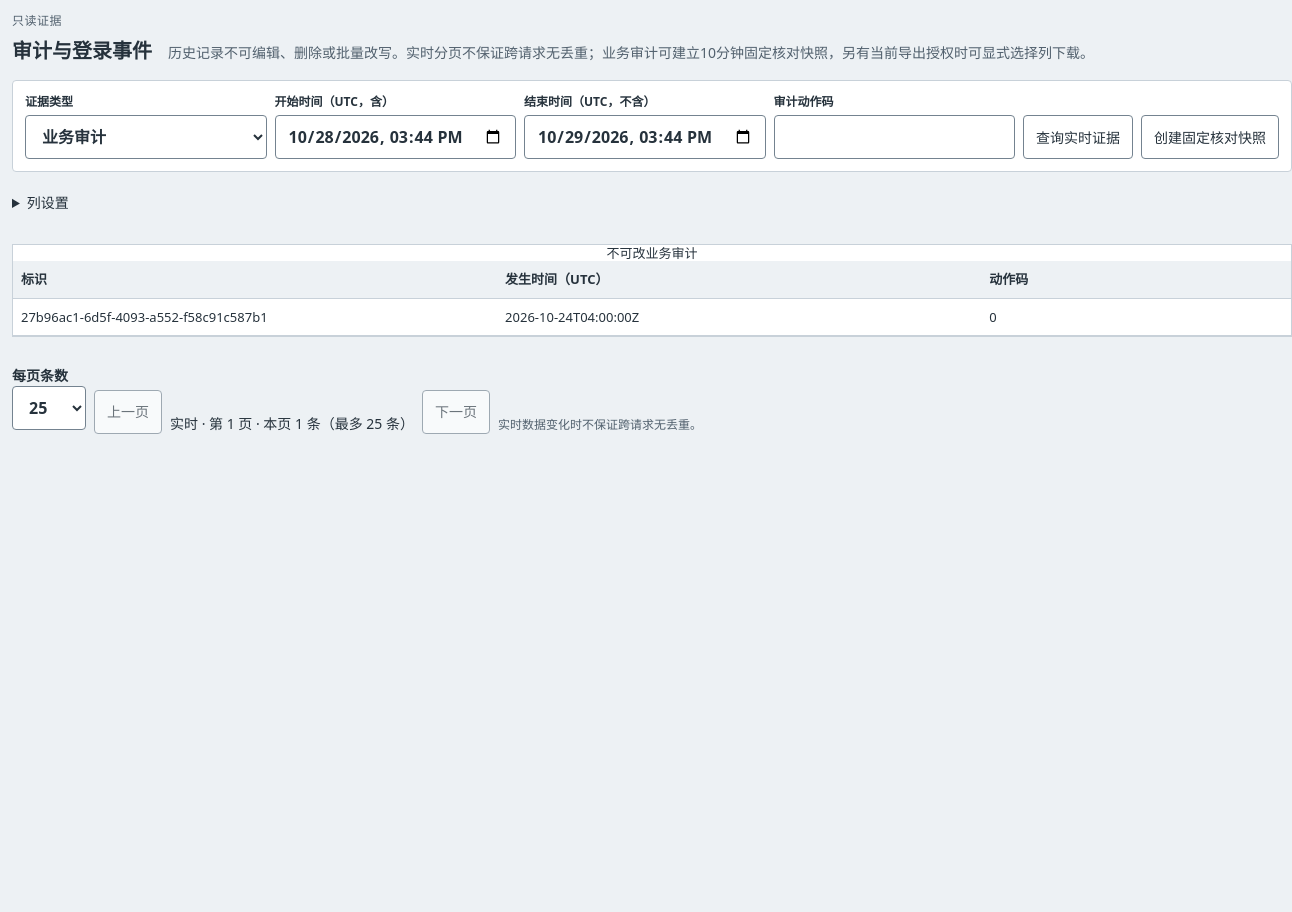
Scenario: offline export is rejected visibly without queuing a download on reconnect
The image size is (1292, 912).
Step 1. Click the button with test id "create-audit-snapshot" → x=1210, y=137, box [1141,115,1279,159]
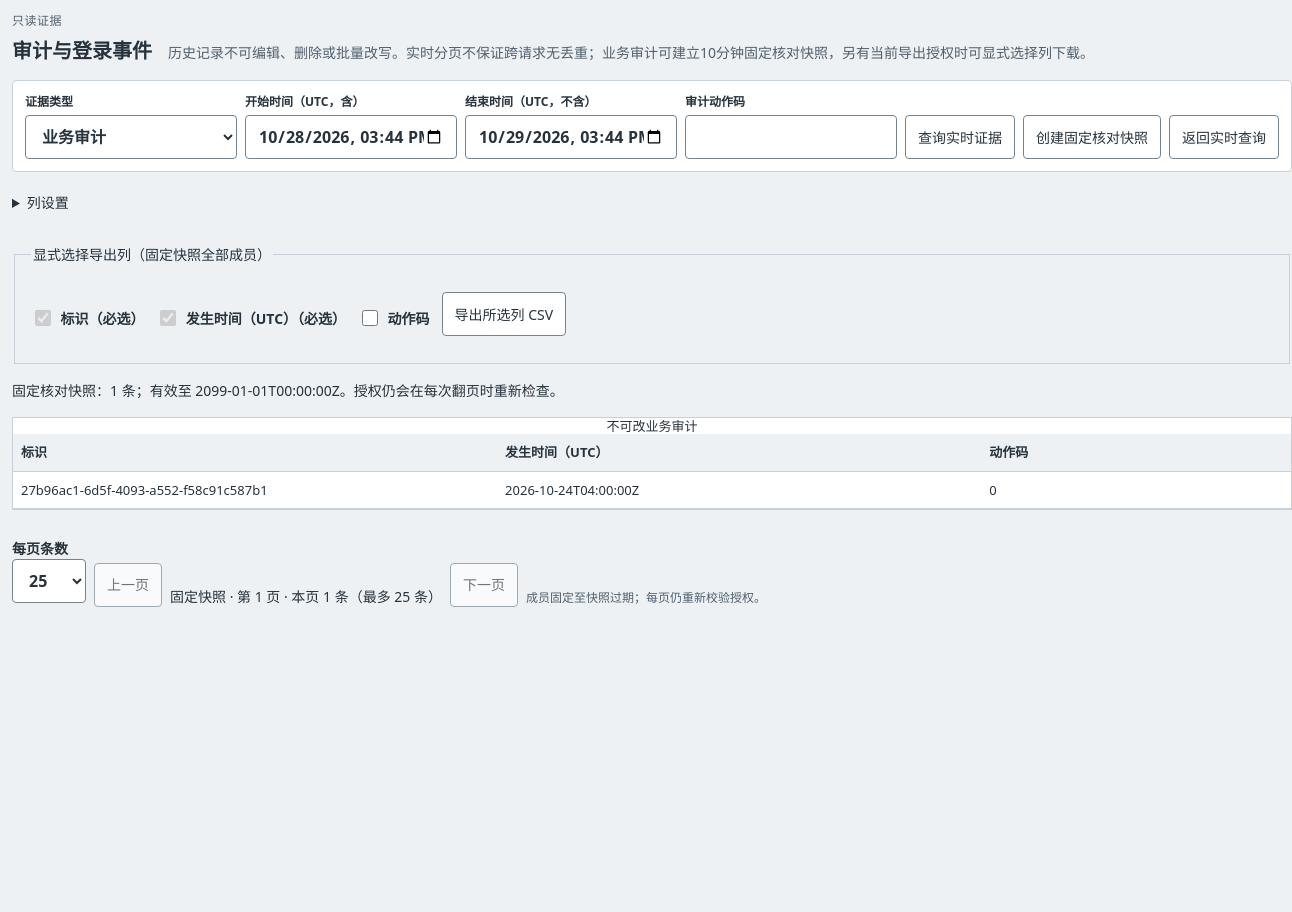
Step 2. Submit the form named "导出固定审计快照", box [12,244,1291,364]
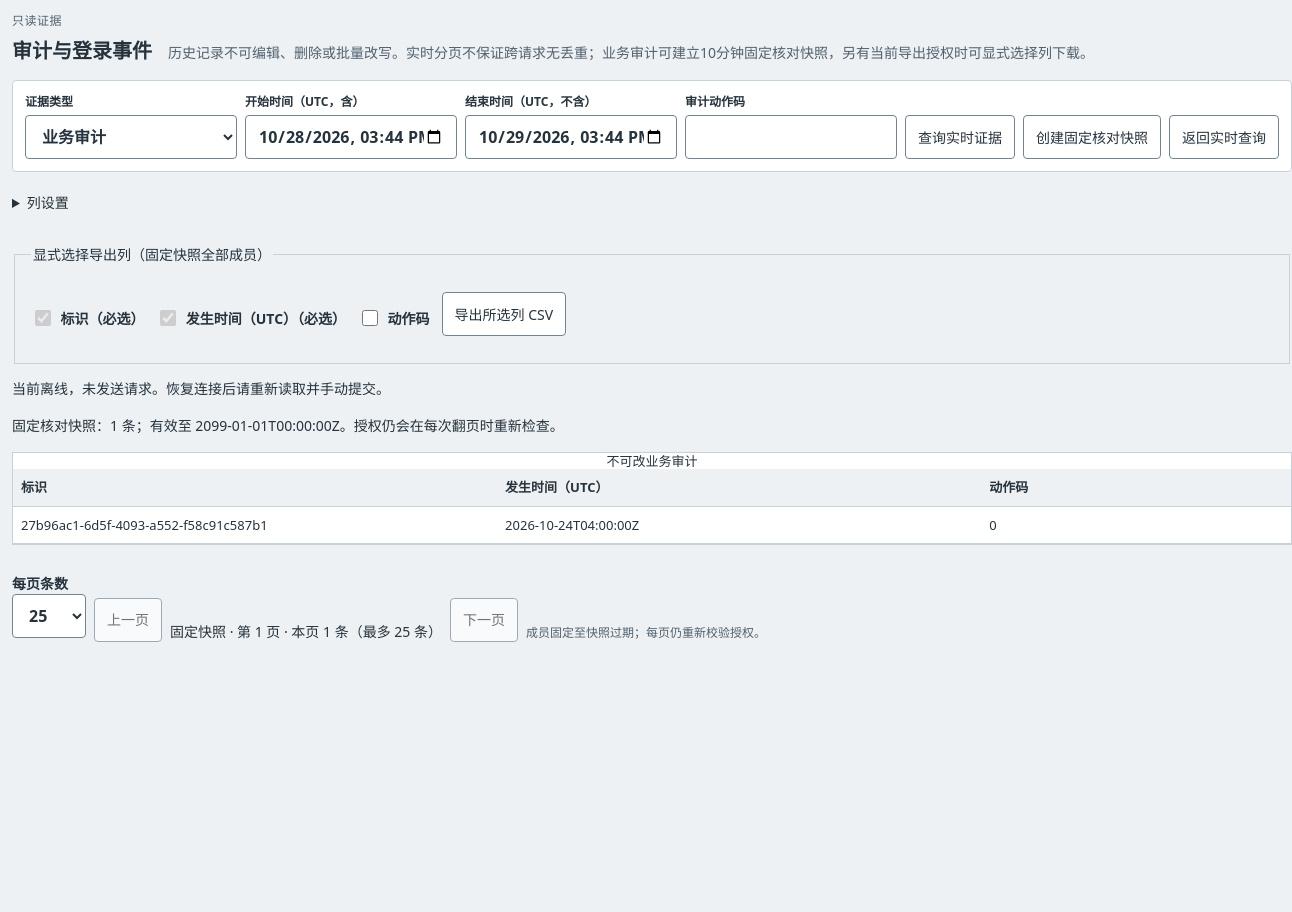
Expected: the text "离线" is shown, [12,379,390,398]
